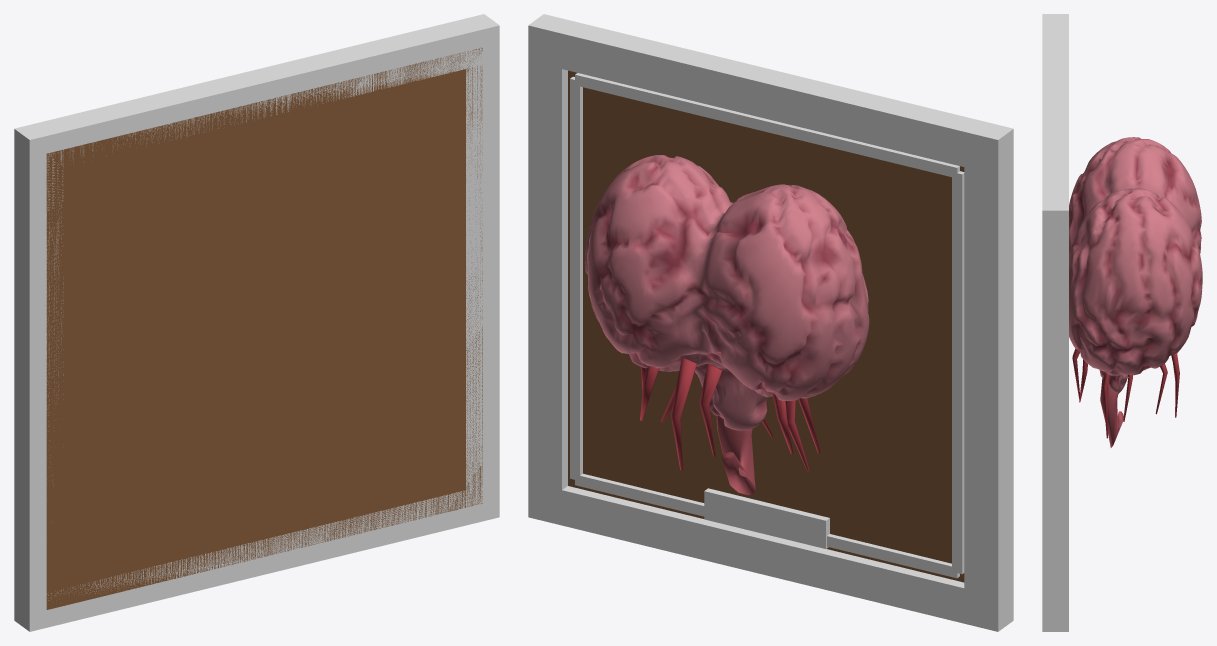
File: brain_of_cthulhu_trophy_v0.glb
The picture shows the model from 3 angles, left to right: view 1: azimuth 30°, elevation 25°; view 2: azimuth 150°, elevation 25°; view 3: azimuth 270°, elevation 25°; orthographic projection. The views are drawn at different scales.
Parts seen in each view (by area): view 1: brain_of_cthulhu_trophy_v0; view 2: brain_of_cthulhu_trophy_v0; view 3: brain_of_cthulhu_trophy_v0.
Boxes of the visible parts, x1,y1,x2,y2 form: brain_of_cthulhu_trophy_v0: (14, 14, 499, 631); brain_of_cthulhu_trophy_v0: (528, 14, 1013, 631); brain_of_cthulhu_trophy_v0: (1042, 14, 1202, 631).
Bounding box in the file's own units: 1.39 × 1.39 × 0.48.
